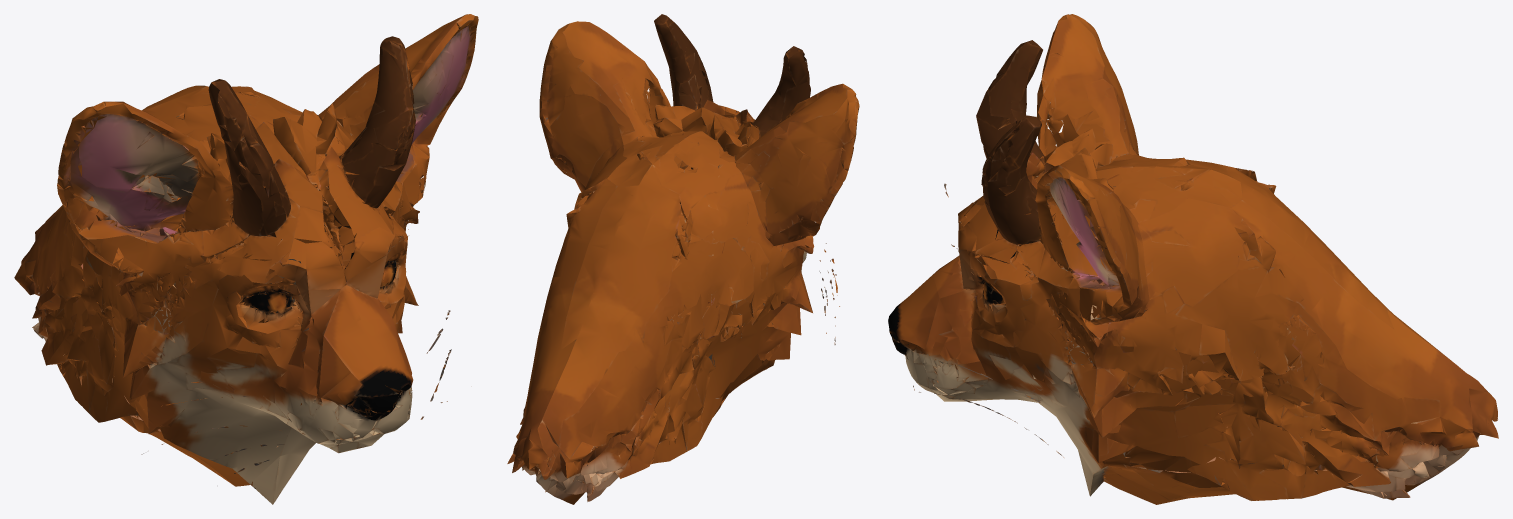
3 views of the same model, side by side, from view 1: azimuth 30°, elevation 25°; view 2: azimuth 150°, elevation 25°; view 3: azimuth 270°, elevation 25° (orthographic). The views are drawn at different scales.
Parts seen in each view (by area): view 1: world; view 2: world; view 3: world.
Part boxes in pixels (<box>): world: <box>14,14,478,504</box>; world: <box>507,14,859,504</box>; world: <box>888,14,1498,504</box>.
Bounding box in the file's own units: 0.6883 × 0.7706 × 1.
1 material, 1 textured.
